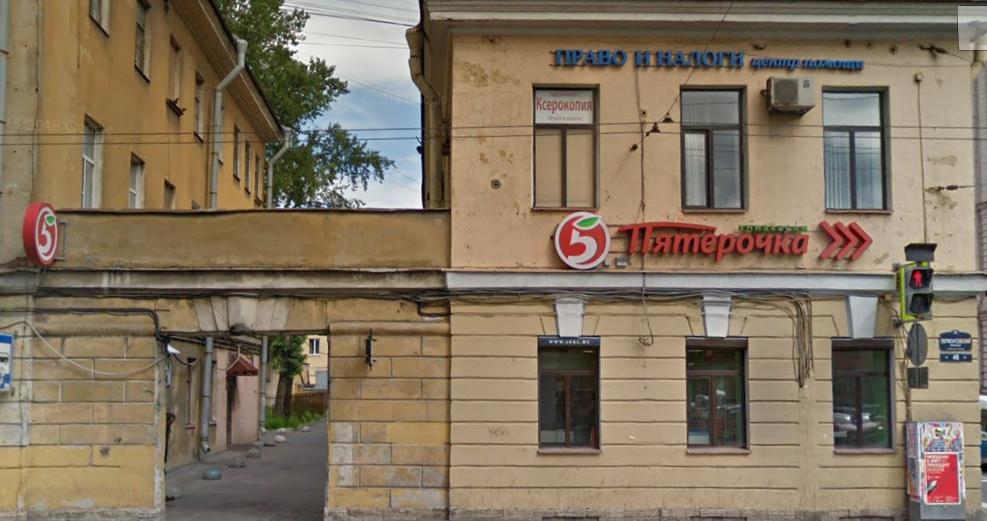arch: (144, 322, 337, 521)
cantilever: (16, 193, 79, 276)
signboard: (545, 204, 873, 274), (544, 41, 864, 85)
window: (825, 88, 894, 210), (682, 86, 746, 213), (533, 89, 593, 210), (688, 337, 750, 452), (544, 335, 603, 452), (832, 344, 894, 455)
